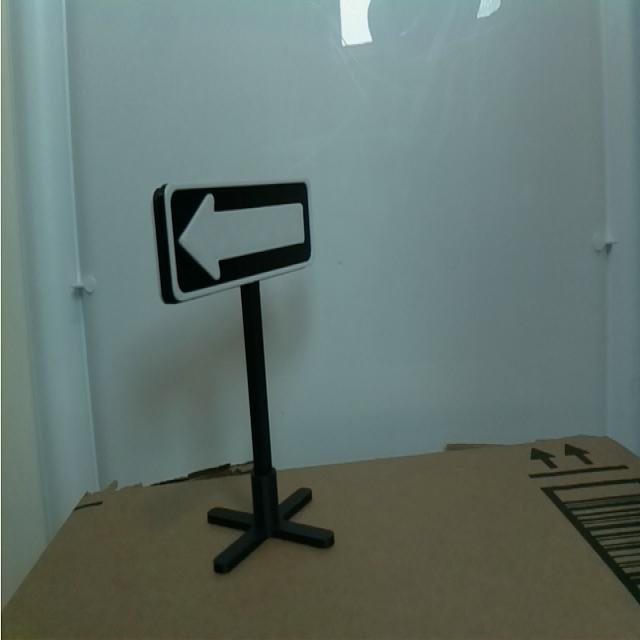sign_oneway_left: (141, 148, 343, 324)
